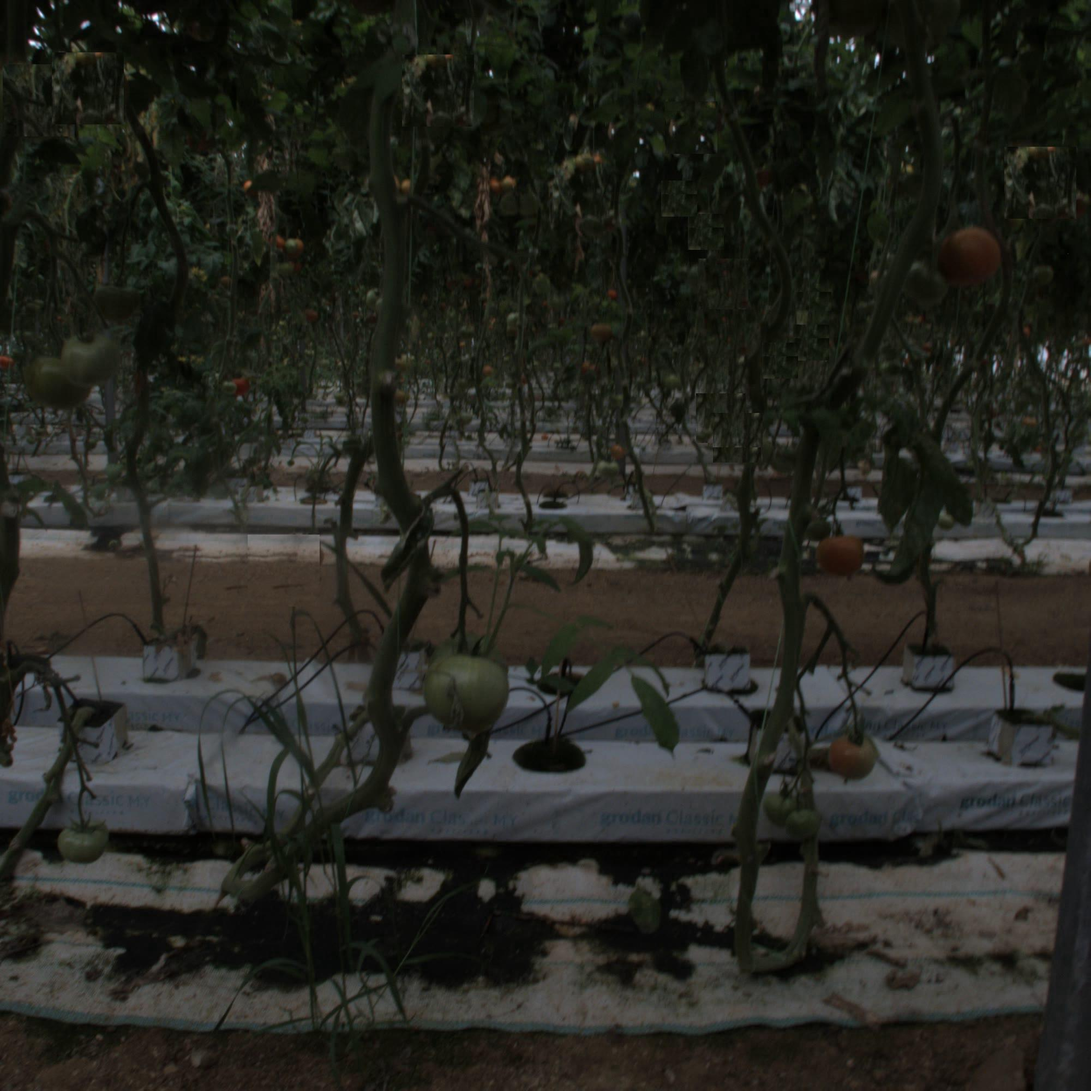fully-ripe: (933, 225, 1002, 294), (820, 534, 865, 579)
semi-ripe: (828, 730, 876, 778)
unripe: (423, 646, 506, 729), (61, 327, 116, 382), (32, 352, 87, 406), (58, 817, 106, 865)
